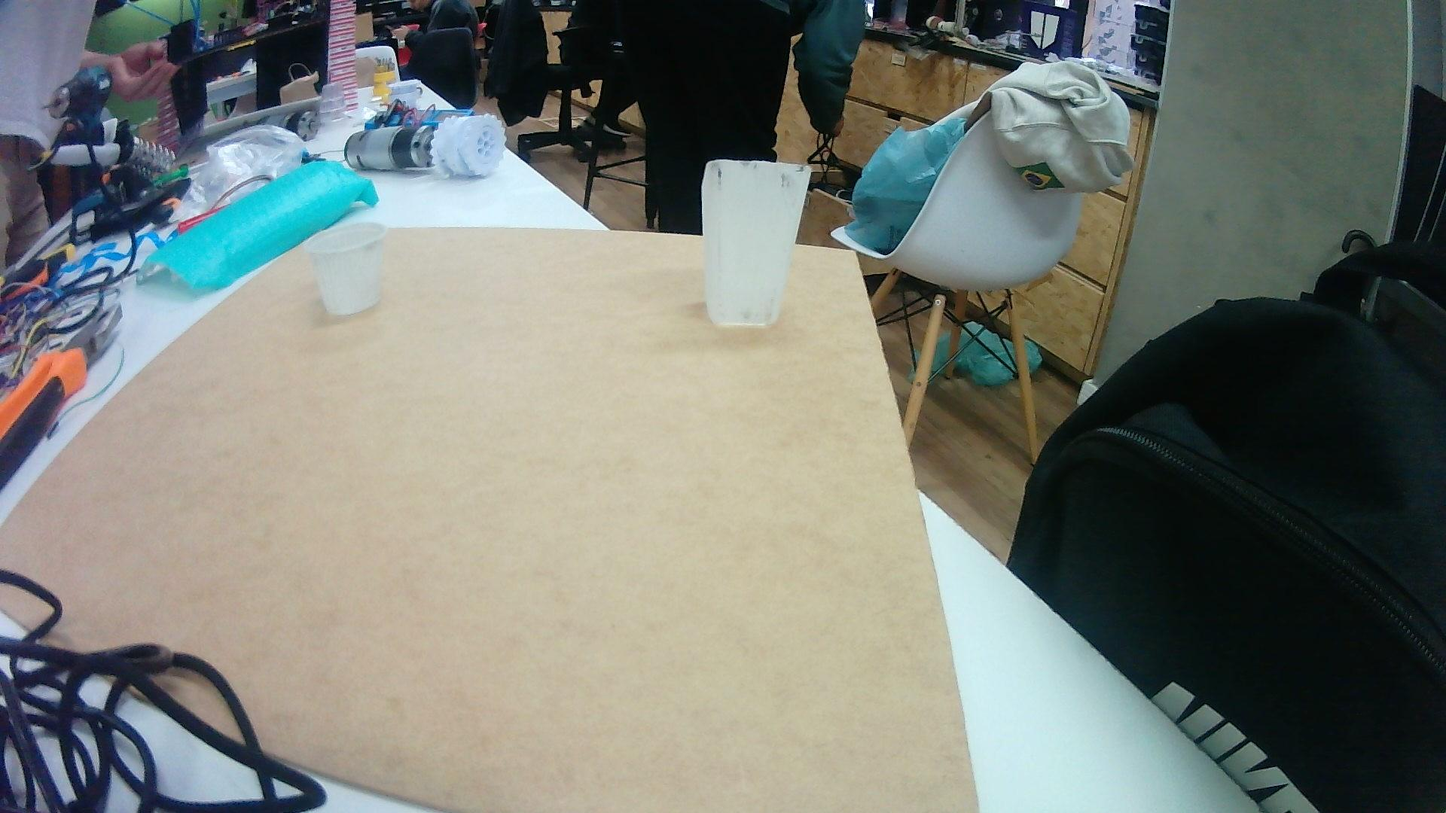erva_daninha: (700, 159, 813, 328)
planta: (302, 219, 389, 318)
